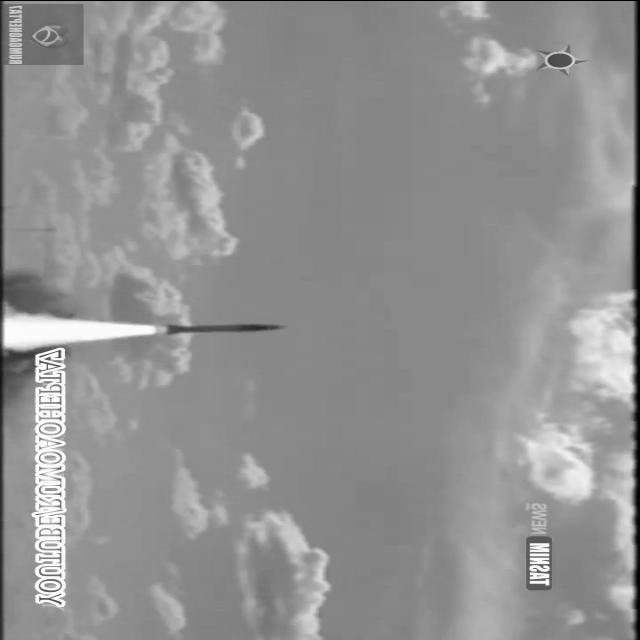missile: (146, 318, 290, 334)
